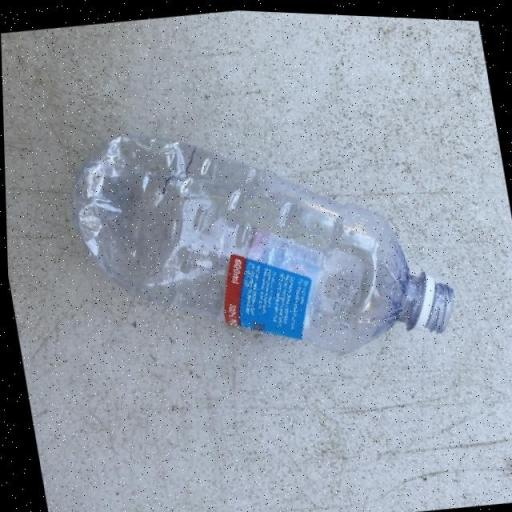plastic: (58, 88, 461, 389)
